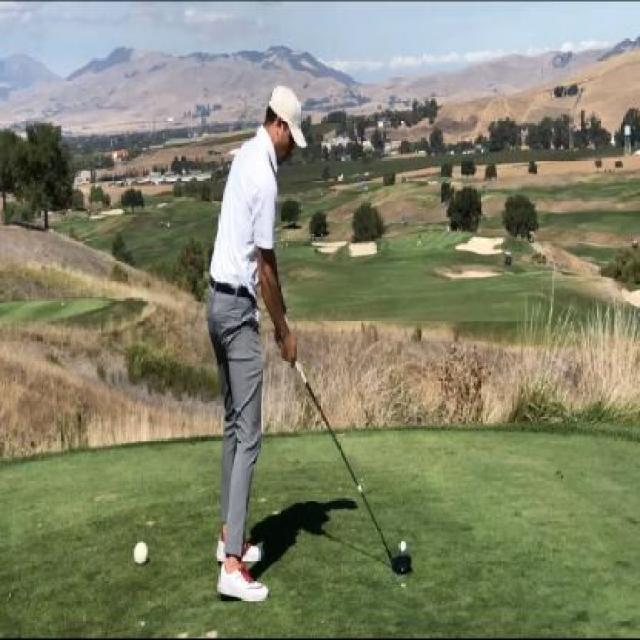club head: (388, 548, 414, 577)
